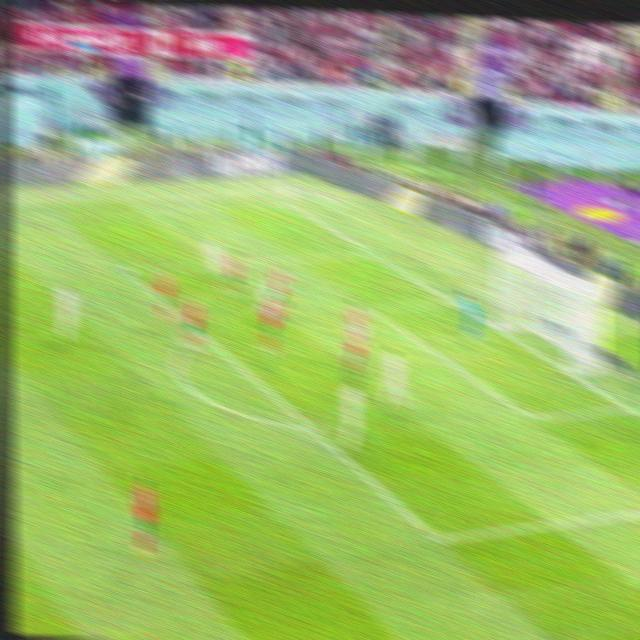bigarea_bottom_inner: (424, 520, 452, 559)
bigarea_top_inner: (120, 260, 137, 285)
bigarea_top_outter: (358, 245, 382, 261)
bottom_arc_area_intersection: (300, 414, 321, 444)
corner: (277, 196, 294, 212)
smallarea_bottom_inner: (522, 407, 543, 432)
smallarea_bottom_outter: (615, 396, 637, 424)
smallarea_top_inner: (360, 298, 380, 322)
smallarea_top_outter: (442, 290, 460, 311)
top_arc_area_intersection: (195, 327, 212, 345)
